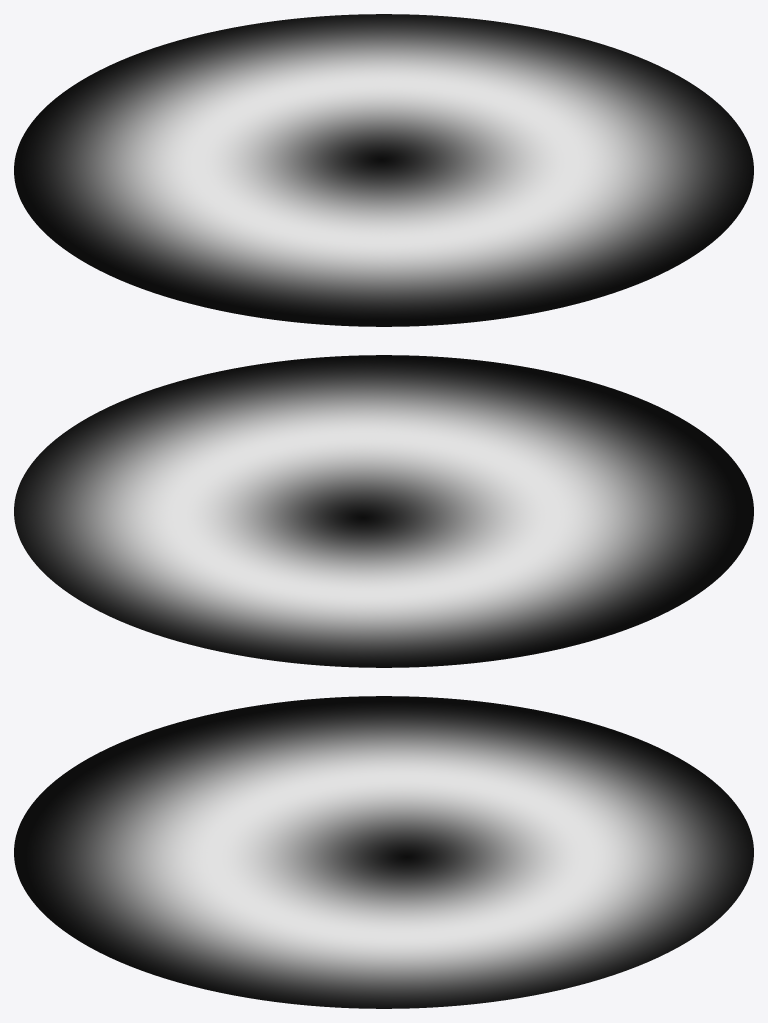
File: blackHoleDisk.fbx
3 renders of one model, top to bottom at view 1: azimuth 30°, elevation 25°; view 2: azimuth 150°, elevation 25°; view 3: azimuth 270°, elevation 25°, orthographic.
Parts seen in each view (by area): view 1: pCylinder1; view 2: pCylinder1; view 3: pCylinder1.
Part boxes in pixels (<box>): pCylinder1: <box>14,14,753,326</box>; pCylinder1: <box>14,355,753,667</box>; pCylinder1: <box>14,696,753,1008</box>.
Bounding box in the file's own units: 2 × 0 × 2.
Materials: 1 (1 with a texture image).
